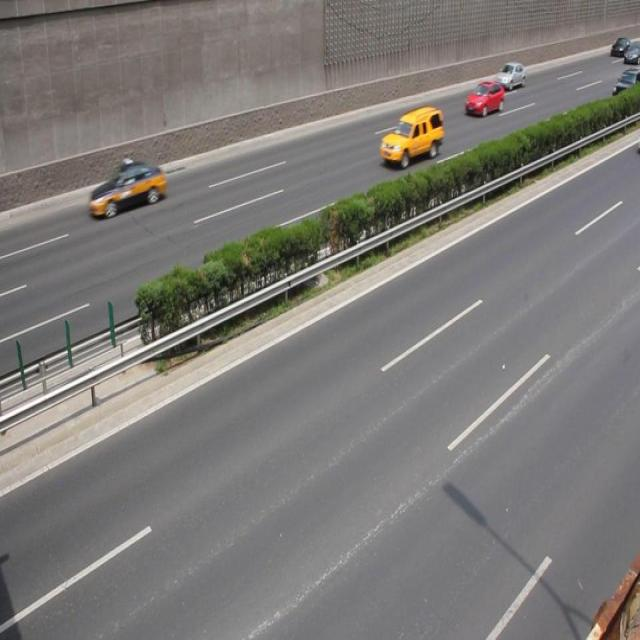car: (88, 161, 165, 219), (378, 107, 442, 170), (463, 79, 503, 115), (493, 63, 524, 90)
